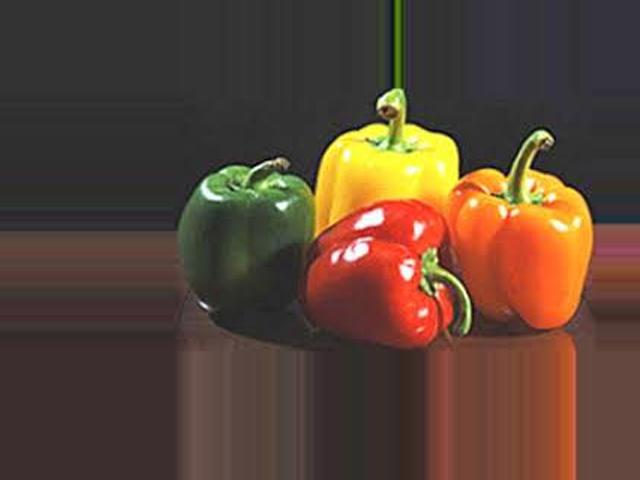bell_pepper: (442, 147, 592, 354)
